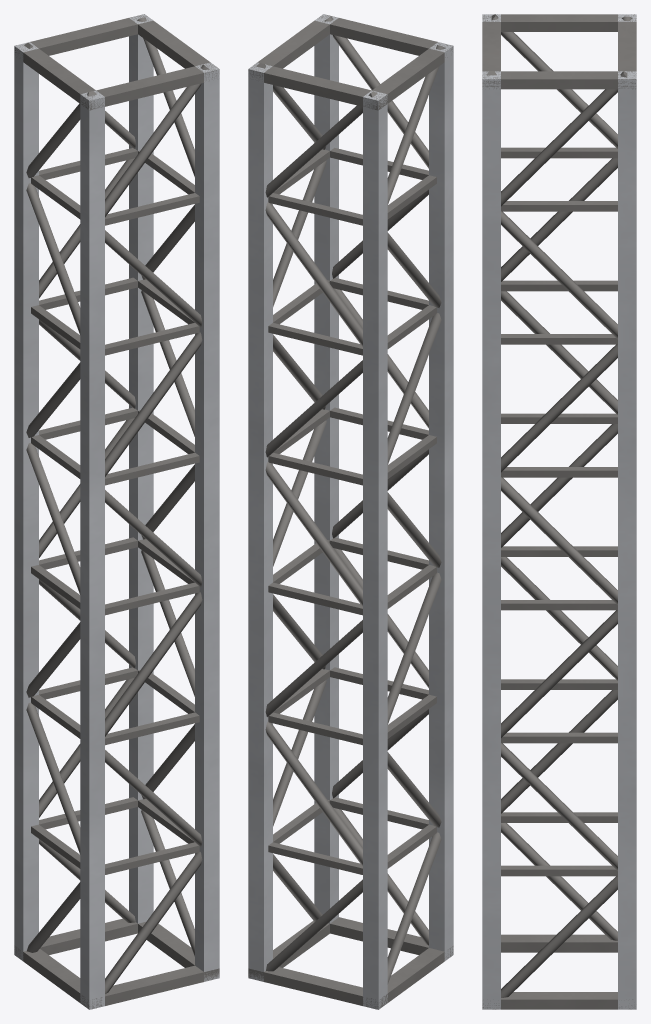
Rendered from struct00_box_girder_s_4.glb.
The picture shows the model from 3 angles, left to right: view 1: azimuth 30°, elevation 25°; view 2: azimuth 150°, elevation 25°; view 3: azimuth 270°, elevation 25°; orthographic projection. The views are drawn at different scales.
Parts seen in each view (by area): view 1: longerons, lacing, end_frames; view 2: longerons, lacing, end_frames; view 3: lacing, longerons, end_frames.
Part boxes in pixels (bbox=[...]): longerons: bbox=[14, 14, 219, 1009]; lacing: bbox=[24, 17, 209, 993]; end_frames: bbox=[14, 14, 219, 1009]; longerons: bbox=[248, 14, 453, 1009]; lacing: bbox=[256, 16, 445, 984]; end_frames: bbox=[248, 14, 453, 1009]; lacing: bbox=[486, 14, 632, 997]; longerons: bbox=[482, 14, 636, 1009]; end_frames: bbox=[482, 14, 636, 1009].
Size of the model in its own units: 0.6 by 4.03 by 0.6.
2 materials, 2 textured.
